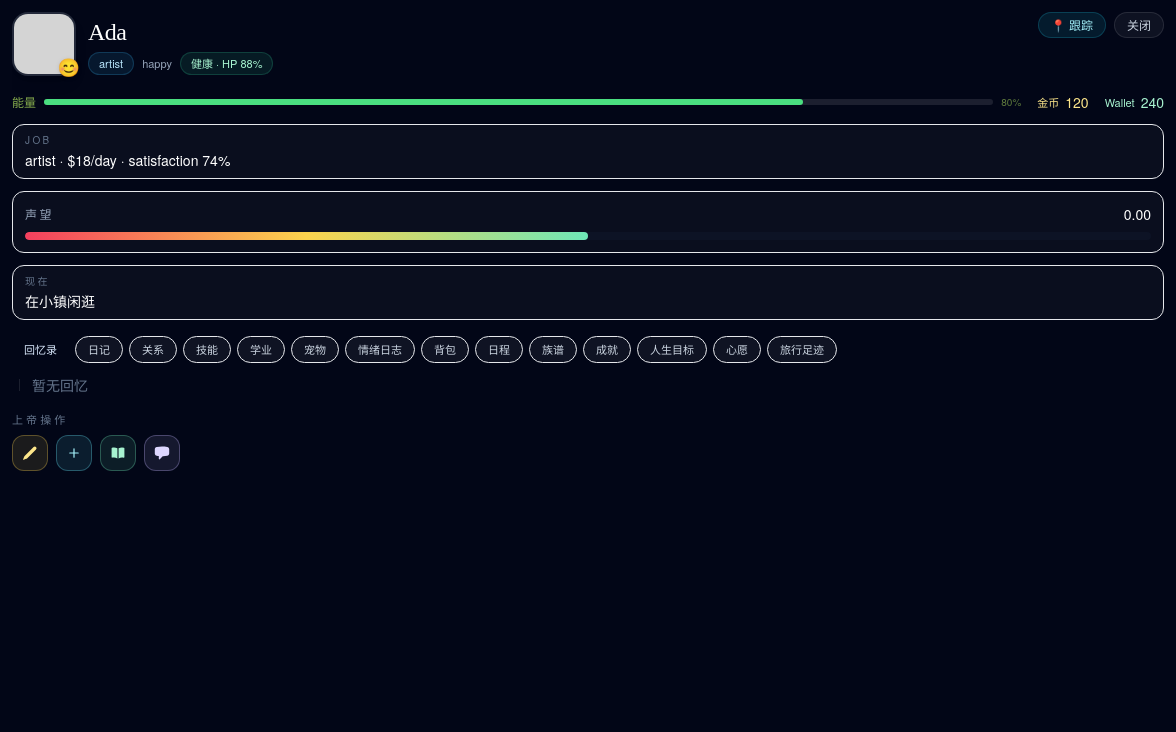
Test case: resident avatar placements › renders a mood log timeline with cause tags in the resident sidebar
This screenshot has width=1176, height=732.
Click the tab "情绪日志". click: (380, 349)
box: [345,336,415,362]
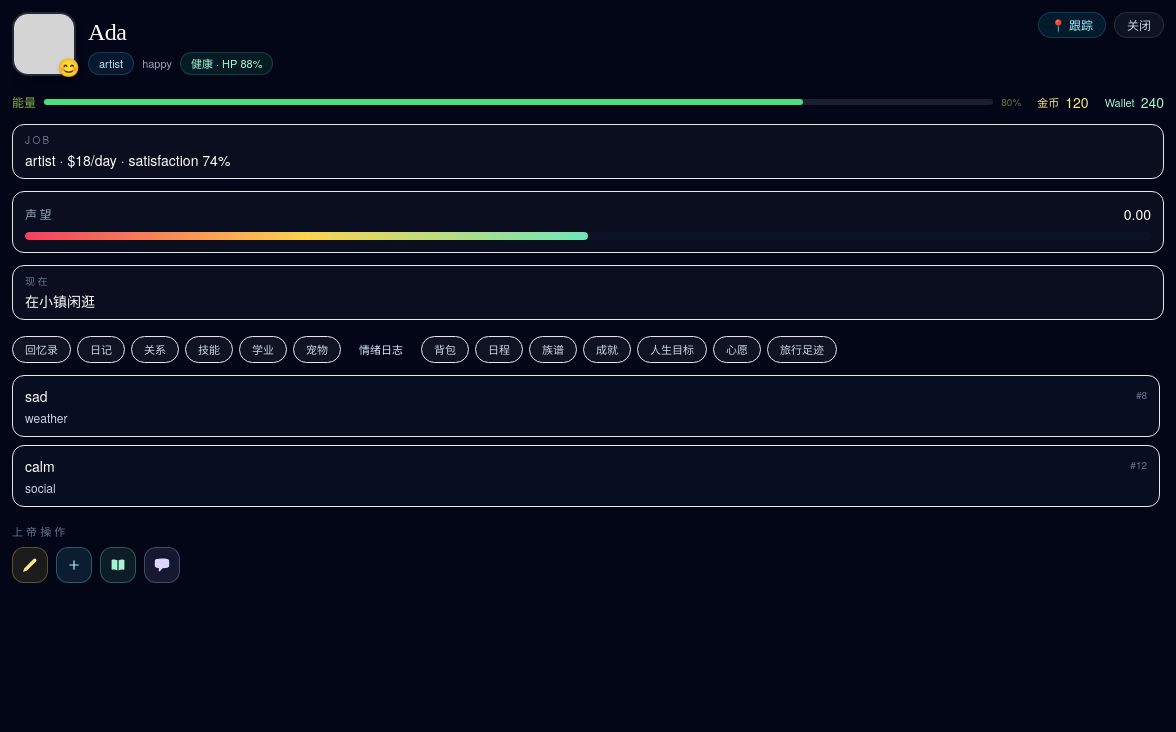
Now the text "sad" is shown, box [25,386,48,406]
Now the text "weather" is shown, box [25,408,68,426]
Now the text "social" is shown, box [25,478,56,496]
